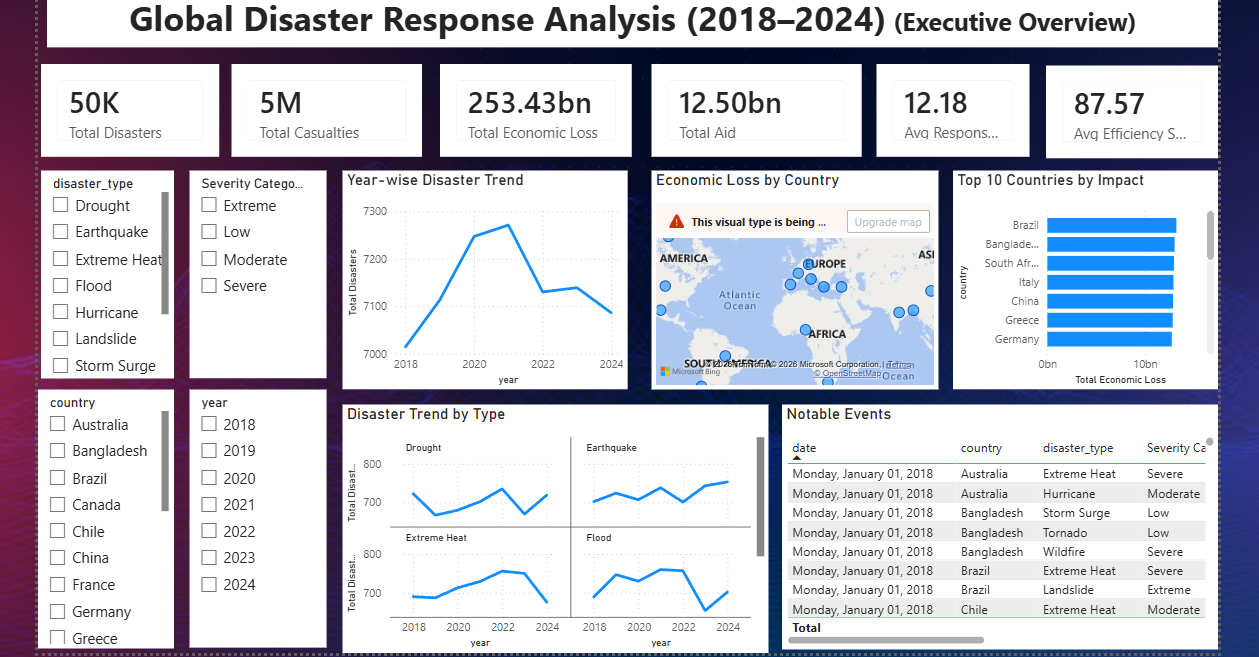

The page's visual inventory and layout, read from the dashboard file:
{"tool":"powerbi","page":{"name":"Page 1","canvas":[1280,720],"ordinal":0},"visuals":[{"type":"textbox","box":[9.8,0,1270.8,63.5],"z":0},{"type":"slicer","fields":{"Values":["global_disaster_clean.year"]},"box":[165,435,148.3,280],"z":1000},{"type":"slicer","fields":{"Values":["global_disaster_clean.country"]},"box":[0,435,146.7,280],"z":2000},{"type":"slicer","fields":{"Values":["global_disaster_clean.disaster_type"]},"box":[3.3,196.7,143.3,225],"z":3000},{"type":"slicer","fields":{"Values":["global_disaster_clean.Severity Category"]},"box":[165,196.7,148.3,225],"z":4000},{"type":"cardVisual","fields":{"Data":["global_disaster_clean.Total Disasters"]},"box":[3.3,81.4,193.6,100.9],"z":5000},{"type":"cardVisual","fields":{"Data":["global_disaster_clean.Total Casualties"]},"box":[209.9,81.4,206.6,100.9],"z":6000},{"type":"cardVisual","fields":{"Data":["global_disaster_clean.Total Economic Loss"]},"box":[436.7,81.7,208.3,100.9],"z":7000},{"type":"cardVisual","fields":{"Data":["global_disaster_clean.Avg Response Time (hrs)"]},"box":[910,81.7,166,100.9],"z":8000},{"type":"cardVisual","fields":{"Data":["global_disaster_clean.Total Aid"]},"box":[665,81.7,227.8,100.9],"z":9000},{"type":"cardVisual","fields":{"Data":["global_disaster_clean.Avg Efficiency Score"]},"box":[1093.3,83.3,187.1,100.9],"z":10000},{"type":"lineChart","title":"Year-wise Disaster Trend","fields":{"Category":["global_disaster_clean.year"],"Y":["global_disaster_clean.Total Disasters"]},"box":[330.3,196.9,309.2,237.6],"z":11000},{"type":"map","title":"Economic Loss by Country","fields":{"Category":["global_disaster_clean.country"],"Size":["global_disaster_clean.Total Disasters"]},"box":[665.5,196.9,310.8,237.6],"z":12000},{"type":"lineChart","title":"Disaster Trend by Type","fields":{"Category":["global_disaster_clean.year"],"Rows":["global_disaster_clean.disaster_type"],"Y":["global_disaster_clean.Total Disasters"]},"box":[330.3,450.7,462.1,270.1],"z":13000},{"type":"tableEx","title":"Notable Events","fields":{"Values":["global_disaster_clean.date","global_disaster_clean.country","global_disaster_clean.disaster_type","global_disaster_clean.Severity Category","Sum(global_disaster_clean.casualties)","Sum(global_disaster_clean.economic_loss_usd)","Sum(global_disaster_clean.response_time_hours)"]},"box":[806.7,450,473.3,265],"z":14000},{"type":"clusteredBarChart","title":"Top 10 Countries by Impact","fields":{"Category":["global_disaster_clean.country"],"Y":["global_disaster_clean.Total Economic Loss"]},"box":[992.5,196.9,288,237.6],"z":14001}]}

Visuals, with their boxes in screenshot pixels (x1, y1, x2, y2):
textbox: l=39, t=0, r=1222, b=43
slicer - global_disaster_clean.year: l=183, t=389, r=321, b=649
slicer - global_disaster_clean.country: l=30, t=389, r=166, b=649
slicer - global_disaster_clean.disaster_type: l=33, t=167, r=166, b=376
slicer - global_disaster_clean.Severity Category: l=183, t=167, r=321, b=376
cardVisual - global_disaster_clean.Total Disasters: l=33, t=59, r=213, b=153
cardVisual - global_disaster_clean.Total Casualties: l=225, t=59, r=417, b=153
cardVisual - global_disaster_clean.Total Economic Loss: l=436, t=60, r=630, b=154
cardVisual - global_disaster_clean.Avg Response Time (hrs): l=877, t=60, r=1031, b=154
cardVisual - global_disaster_clean.Total Aid: l=649, t=60, r=861, b=154
cardVisual - global_disaster_clean.Avg Efficiency Score: l=1048, t=61, r=1222, b=155
"Year-wise Disaster Trend" lineChart: l=337, t=167, r=625, b=388
"Economic Loss by Country" map: l=649, t=167, r=939, b=388
"Disaster Trend by Type" lineChart: l=337, t=403, r=767, b=655
"Notable Events" tableEx: l=781, t=403, r=1221, b=649
"Top 10 Countries by Impact" clusteredBarChart: l=954, t=167, r=1222, b=388
